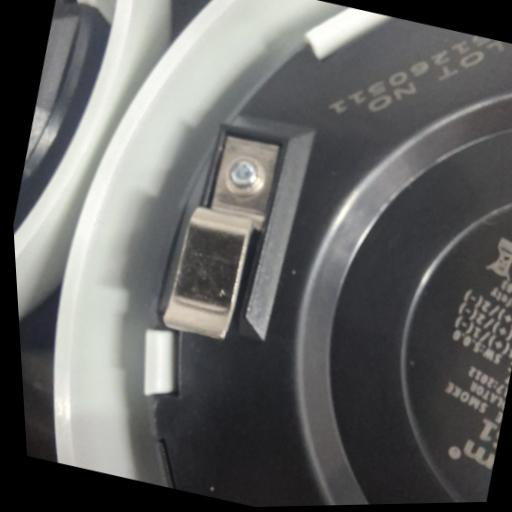yaysiz: (144, 118, 300, 352)
